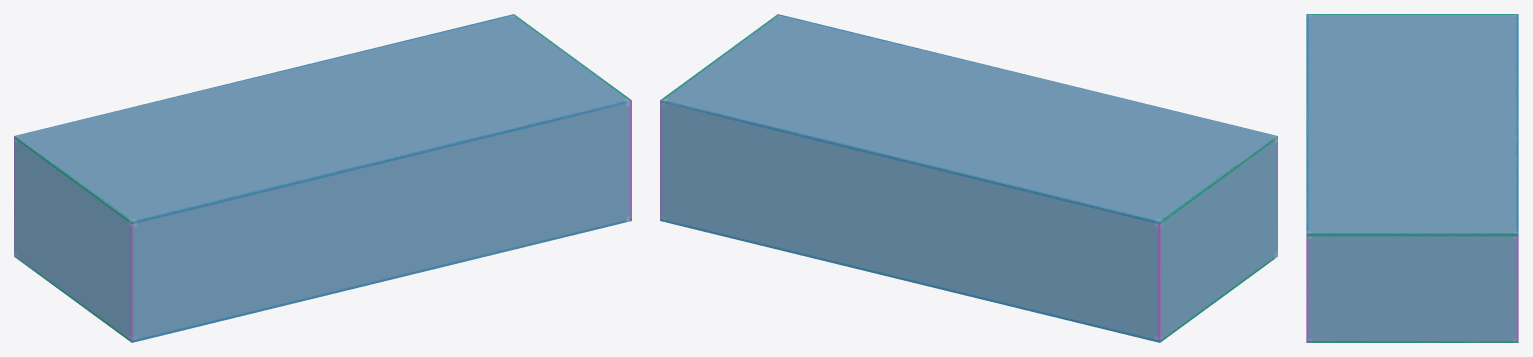
File: total-envelope-total-gpu-asrock-a310-lp-4g.glb
3 renders of one model, left to right at view 1: azimuth 30°, elevation 25°; view 2: azimuth 150°, elevation 25°; view 3: azimuth 270°, elevation 25°, orthographic. The views are drawn at different scales.
Parts seen in each view (by area): view 1: Published outer envelope — not a surface-accurate model, Length guide (×3), Height guide, Thickness guide; view 2: Published outer envelope — not a surface-accurate model, Length guide (×2), Height guide, Thickness guide; view 3: Published outer envelope — not a surface-accurate model, Height guide (×3), Length guide (×2), Thickness guide (×2).
Boxes of the visible parts, x1=… form: Published outer envelope — not a surface-accurate model: x1=14, y1=14, x2=631, y2=341; Length guide (×3): x1=14, y1=14, x2=631, y2=342; Height guide: x1=14, y1=136, x2=133, y2=224; Thickness guide: x1=130, y1=221, x2=133, y2=342; Published outer envelope — not a surface-accurate model: x1=660, y1=14, x2=1277, y2=341; Length guide (×2): x1=660, y1=100, x2=1161, y2=342; Height guide: x1=1158, y1=136, x2=1277, y2=224; Thickness guide: x1=1158, y1=221, x2=1161, y2=342; Published outer envelope — not a surface-accurate model: x1=1306, y1=14, x2=1518, y2=342; Height guide (×3): x1=1306, y1=14, x2=1517, y2=342; Length guide (×2): x1=1306, y1=14, x2=1518, y2=236; Thickness guide (×2): x1=1306, y1=233, x2=1518, y2=342.
Size of the model in its own units: 0.169 by 0.039 by 0.069.
